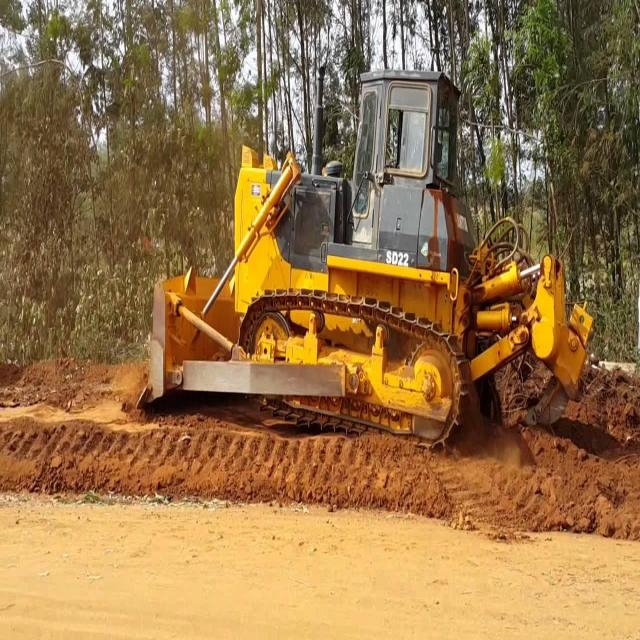Bulldozer: (120, 41, 600, 468)
